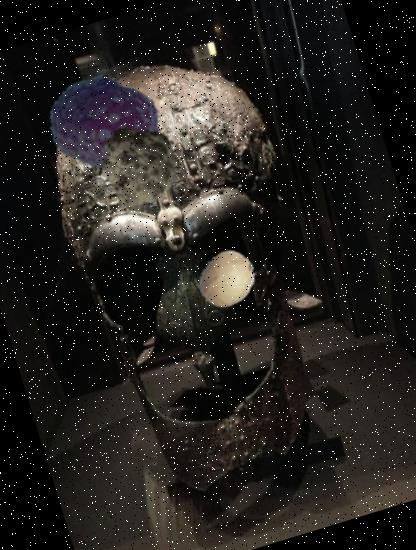Cauliflower: (86, 110, 192, 216)
Lemon: (189, 241, 264, 316)
Raspberry: (36, 55, 174, 192)
